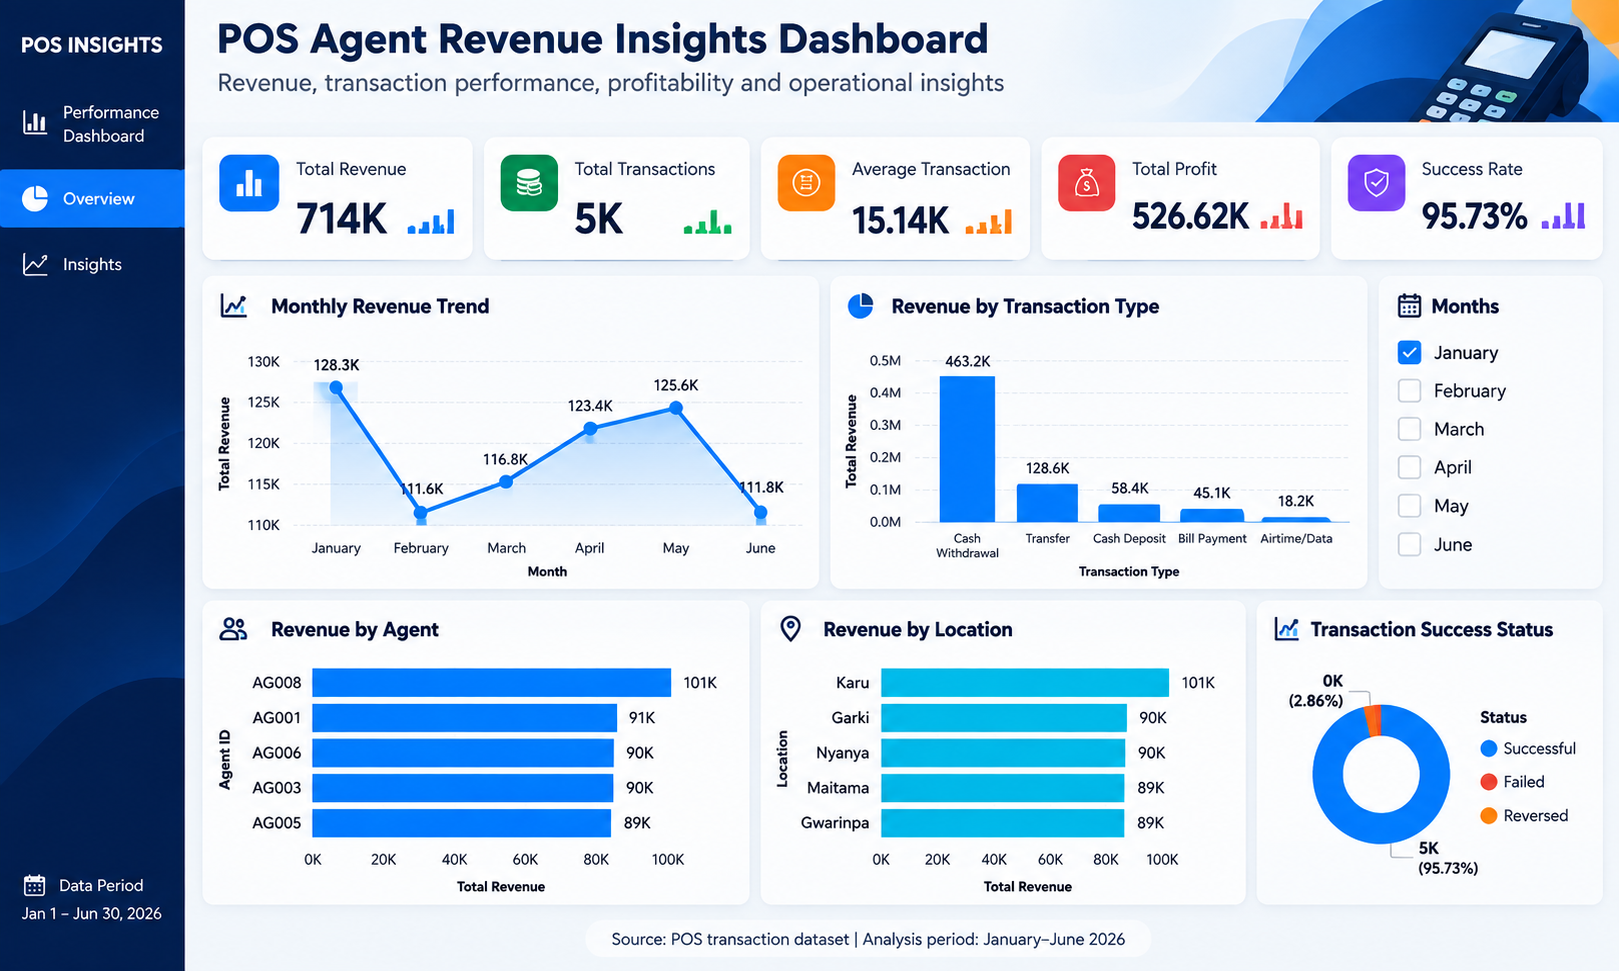

The dashboard page shown, as its layout file describes it:
{"tool":"powerbi","page":{"name":"Overview","canvas":[1280,720],"ordinal":0},"visuals":[{"type":"cardVisual","fields":{"Data":["POS_Agent_Revenue_Dashboard.Total Revenue"]},"box":[133.7,103.4,229.5,104.7],"z":0},{"type":"cardVisual","fields":{"Data":["POS_Agent_Revenue_Dashboard.Total Transactions"]},"box":[365.7,103.4,201.8,104.7],"z":1000},{"type":"cardVisual","fields":{"Data":["POS_Agent_Revenue_Dashboard.Average Transaction"]},"box":[570,103.4,238.3,104.7],"z":2000},{"type":"cardVisual","fields":{"Data":["POS_Agent_Revenue_Dashboard.Total Profit"]},"box":[812.1,103.4,224.5,104.7],"z":3000},{"type":"cardVisual","fields":{"Data":["POS_Agent_Revenue_Dashboard.Success Rate"]},"box":[1037.9,103.4,220.7,104.7],"z":4000},{"type":"lineChart","title":"Monthly Revenue Trend","fields":{"Category":["POS_Agent_Revenue_Dashboard.Month.Variation.Date Hierarchy.Month"],"Y":["POS_Agent_Revenue_Dashboard.Total Revenue"]},"box":[133.7,245.9,455,201.8],"z":5000},{"type":"clusteredColumnChart","title":"Revenue by Transaction Type","fields":{"Category":["POS_Agent_Revenue_Dashboard.Transaction_Type"],"Y":["POS_Agent_Revenue_Dashboard.Total Revenue"]},"box":[595.7,245.7,455.7,201.4],"z":6000},{"type":"clusteredBarChart","title":"Revenue by Agent","fields":{"Category":["POS_Agent_Revenue_Dashboard.Agent_ID"],"Y":["POS_Agent_Revenue_Dashboard.Total Revenue"]},"box":[133.7,459,455,201],"z":7000},{"type":"clusteredBarChart","title":"Revenue by Location","fields":{"Category":["POS_Agent_Revenue_Dashboard.Location"],"Y":["POS_Agent_Revenue_Dashboard.Total Revenue"]},"box":[595.7,458.6,455.7,201.4],"z":8000},{"type":"donutChart","title":"Transaction Success Status","fields":{"Category":["POS_Agent_Revenue_Dashboard.Status"],"Y":["POS_Agent_Revenue_Dashboard.Total Transactions"]},"box":[1057.1,458.6,205.7,204.3],"z":9000},{"type":"shape","box":[0,0,124.8,720.1],"z":10000},{"type":"shape","box":[0,110,125,33],"z":11000},{"type":"textbox","box":[134.9,0,610.4,49.2],"z":12000},{"type":"textbox","box":[137.5,44.1,581.4,37.8],"z":13000},{"type":"textbox","box":[390.9,682.2,498.1,37.8],"z":14000},{"type":"textbox","box":[0,15.3,130,48],"z":15000},{"type":"textbox","box":[2,56,123.3,48],"z":16000},{"type":"textbox","box":[8,110,109,32],"z":17000},{"type":"textbox","box":[1.4,161.4,117.1,32.9],"z":18000},{"type":"textbox","box":[0,645.7,125.7,61.4],"z":19000},{"type":"actionButton","box":[11.4,154.3,100,40],"z":20000},{"type":"slicer","fields":{"Values":["POS_Agent_Revenue_Dashboard.Month.Variation.Date Hierarchy.Month"]},"box":[1057.1,245.7,201.4,201.4],"z":22000}]}

Visuals, with their boxes on the page's 1280x720 design canvas (x1, y1, x2, y2). These are canvas units, not pixel positions in the 1619x971 screenshot, which may show the page scaled, cropped or inside an application window:
cardVisual - POS_Agent_Revenue_Dashboard.Total Revenue: (134,103,363,208)
cardVisual - POS_Agent_Revenue_Dashboard.Total Transactions: (366,103,568,208)
cardVisual - POS_Agent_Revenue_Dashboard.Average Transaction: (570,103,808,208)
cardVisual - POS_Agent_Revenue_Dashboard.Total Profit: (812,103,1037,208)
cardVisual - POS_Agent_Revenue_Dashboard.Success Rate: (1038,103,1259,208)
"Monthly Revenue Trend" lineChart: (134,246,589,448)
"Revenue by Transaction Type" clusteredColumnChart: (596,246,1051,447)
"Revenue by Agent" clusteredBarChart: (134,459,589,660)
"Revenue by Location" clusteredBarChart: (596,459,1051,660)
"Transaction Success Status" donutChart: (1057,459,1263,663)
shape: (0,0,125,720)
shape: (0,110,125,143)
textbox: (135,0,745,49)
textbox: (138,44,719,82)
textbox: (391,682,889,720)
textbox: (0,15,130,63)
textbox: (2,56,125,104)
textbox: (8,110,117,142)
textbox: (1,161,118,194)
textbox: (0,646,126,707)
actionButton: (11,154,111,194)
slicer - POS_Agent_Revenue_Dashboard.Month.Variation.Date Hierarchy.Month: (1057,246,1258,447)
